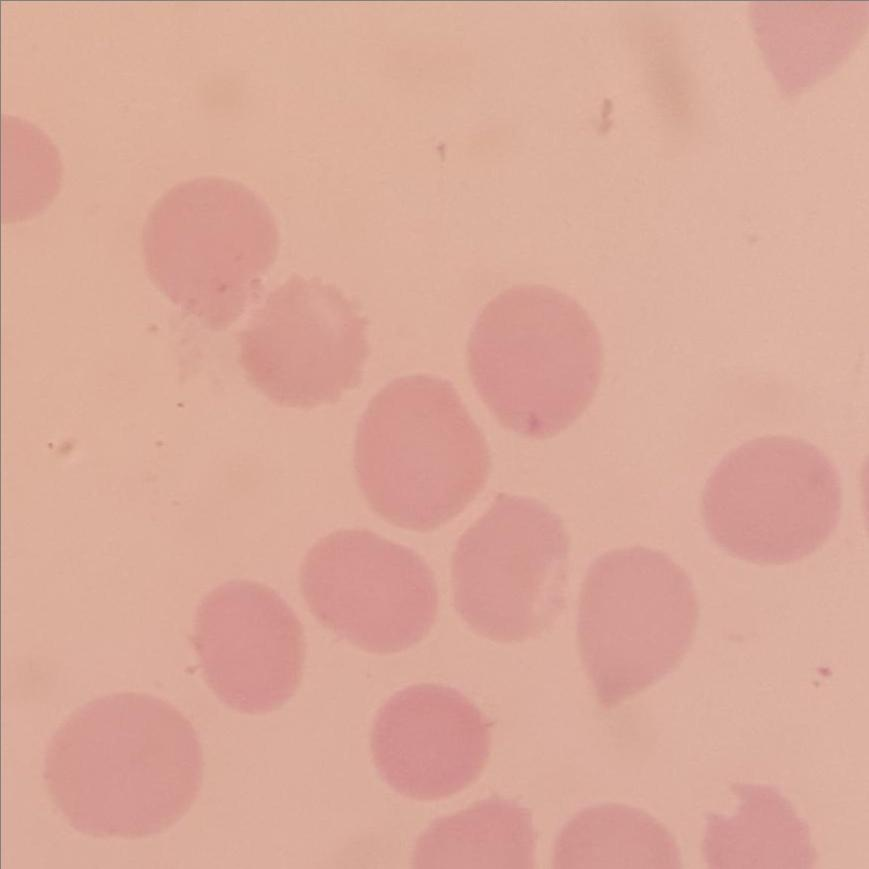Uninfected: (40, 691, 207, 835), (135, 173, 283, 326), (353, 376, 493, 535), (445, 486, 575, 640), (472, 281, 602, 435), (575, 546, 697, 710), (700, 433, 845, 561), (297, 528, 437, 655), (243, 273, 373, 405), (195, 581, 298, 710), (367, 686, 482, 800)
